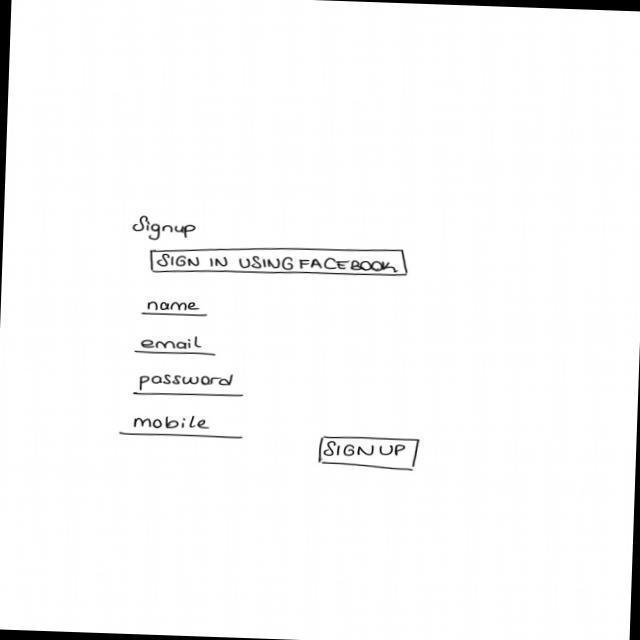button: (149, 241, 412, 284), (317, 434, 424, 473)
input: (117, 410, 246, 442), (132, 371, 247, 400), (133, 332, 221, 358), (141, 299, 209, 320)
label: (129, 214, 200, 243)
